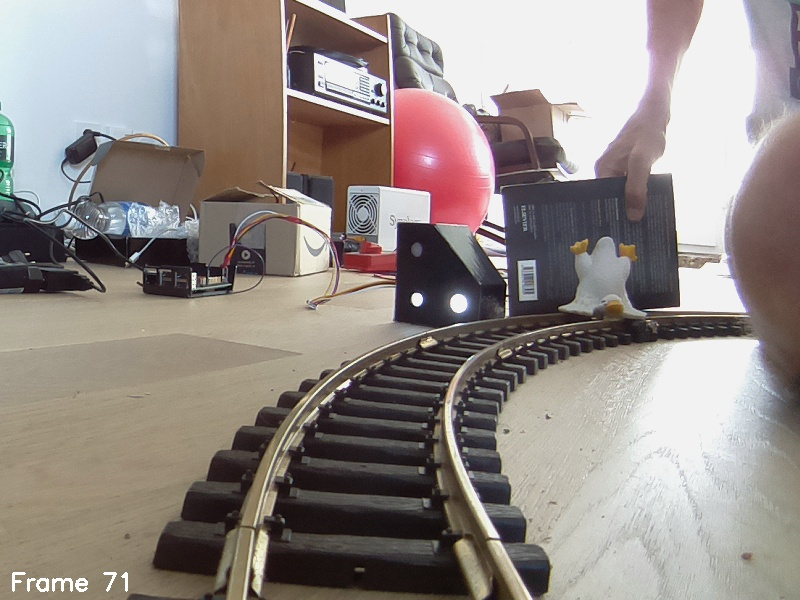Ente: (554, 235, 650, 328)
Halt: (395, 223, 504, 329)
